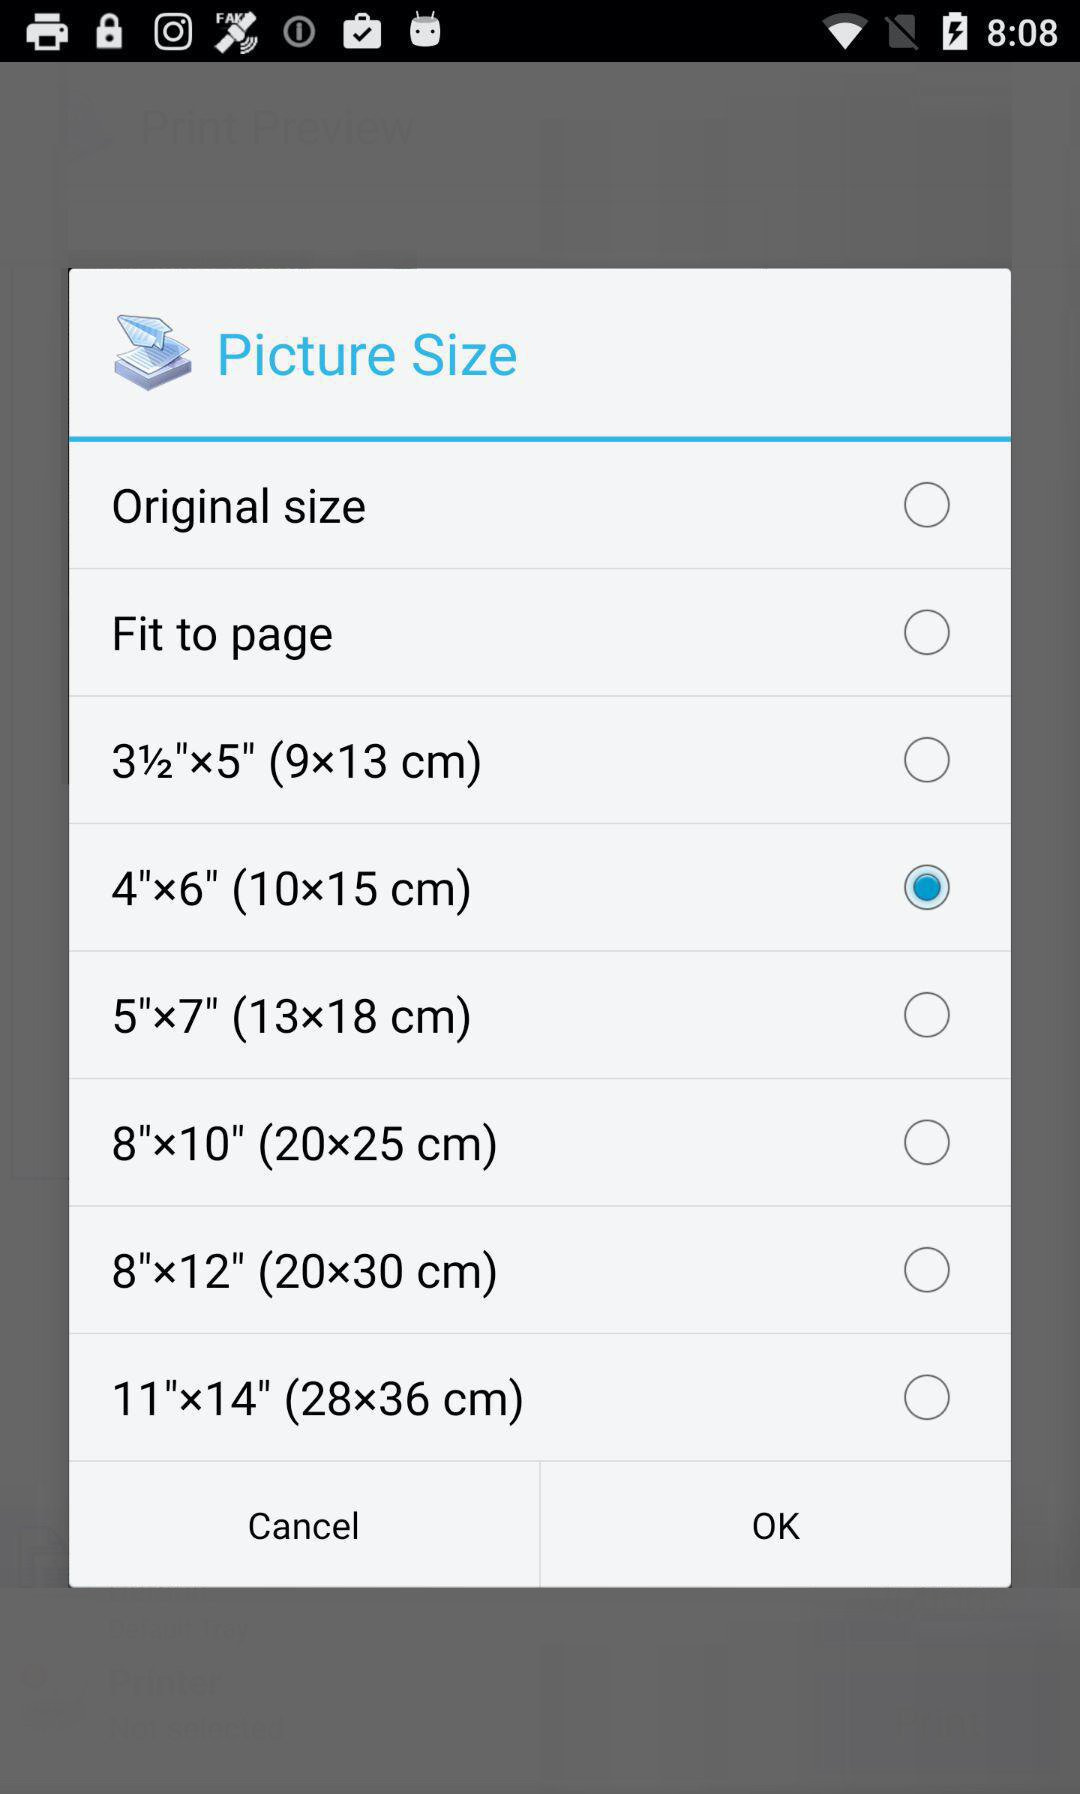CheckedTextView: (113, 1117, 951, 1174), (111, 736, 951, 791), (113, 481, 951, 536), (115, 1372, 951, 1428), (111, 864, 951, 918), (113, 1246, 951, 1299), (114, 609, 951, 662), (114, 992, 951, 1046)
Image: (113, 314, 193, 393)
Modal: (69, 268, 1012, 1589)
Text: (115, 1376, 524, 1428), (113, 1123, 497, 1174), (113, 1249, 497, 1299), (111, 739, 482, 791), (111, 866, 471, 918), (114, 994, 471, 1046), (219, 333, 519, 378), (113, 486, 366, 536), (114, 615, 334, 662)
TextButton: (69, 1461, 541, 1589), (541, 1461, 1012, 1589)
